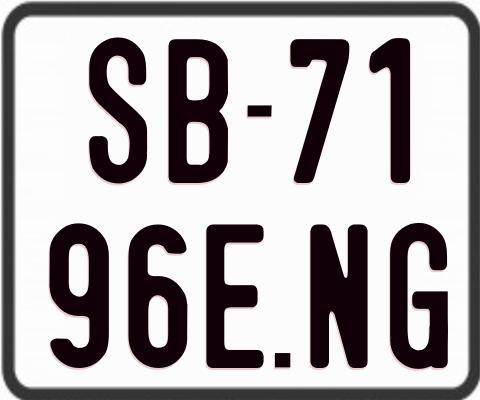1: (369, 37, 416, 183)
6: (127, 223, 188, 371)
7: (287, 36, 346, 183)
9: (49, 221, 110, 372)
B: (166, 39, 230, 186)
E: (205, 222, 269, 369)
G: (388, 222, 449, 368)
N: (307, 221, 365, 367)
S: (87, 34, 149, 181)
